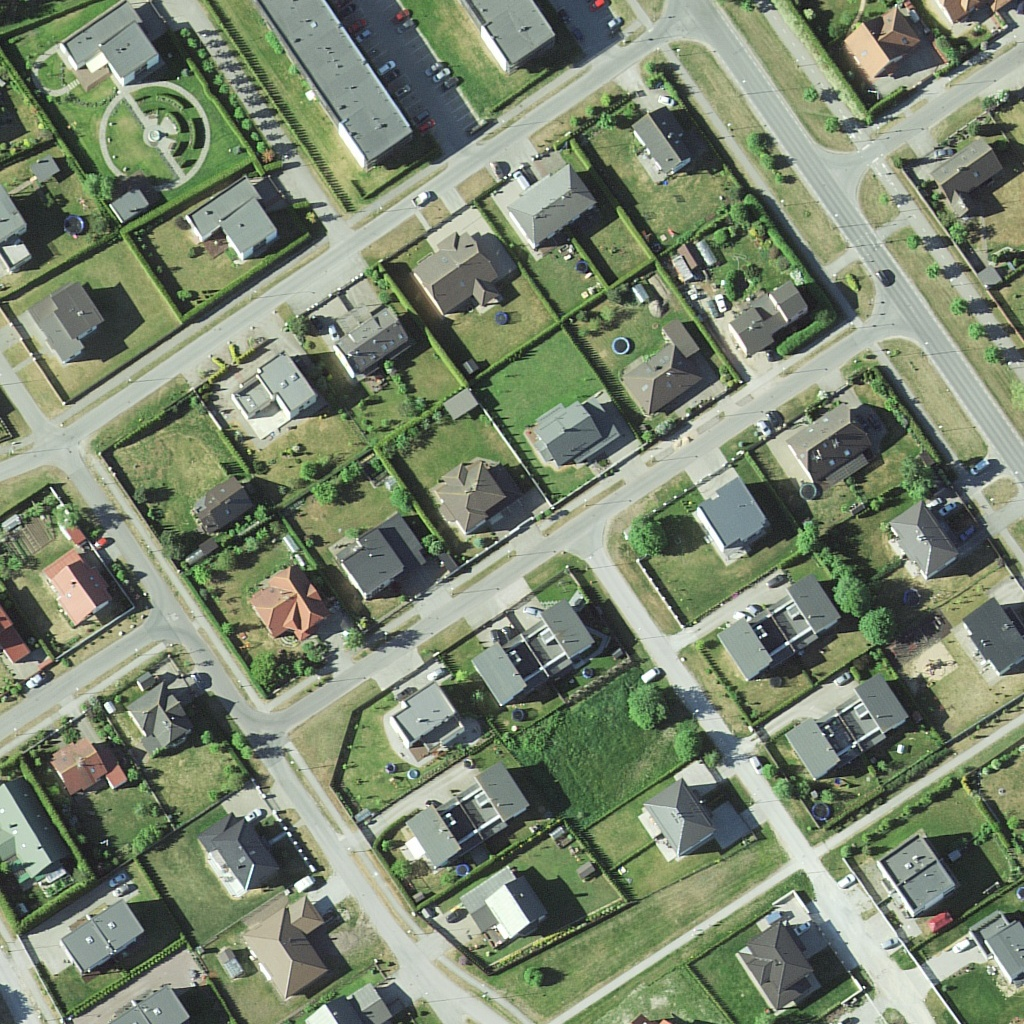building: (56, 4, 167, 90), (184, 179, 285, 266), (244, 898, 332, 995), (720, 278, 814, 362), (194, 806, 283, 893), (512, 164, 602, 250), (738, 923, 822, 1013), (344, 514, 426, 604), (416, 233, 507, 314), (882, 826, 957, 922), (323, 302, 416, 379), (841, 0, 923, 86), (926, 136, 1017, 213), (34, 553, 123, 631), (234, 349, 314, 434), (465, 868, 554, 944), (62, 902, 153, 976), (121, 675, 203, 757), (431, 454, 517, 532), (30, 289, 111, 368), (783, 418, 880, 483), (528, 397, 625, 462), (254, 568, 332, 646), (888, 494, 959, 579), (622, 339, 703, 413), (632, 783, 705, 864), (960, 596, 1021, 678), (696, 474, 764, 547), (635, 99, 693, 181), (185, 475, 261, 537), (396, 680, 462, 751), (43, 740, 124, 796), (718, 611, 776, 680), (791, 573, 847, 644), (779, 718, 845, 777), (852, 666, 910, 732), (410, 807, 467, 869), (475, 756, 524, 828), (536, 607, 595, 660), (479, 644, 526, 710)
